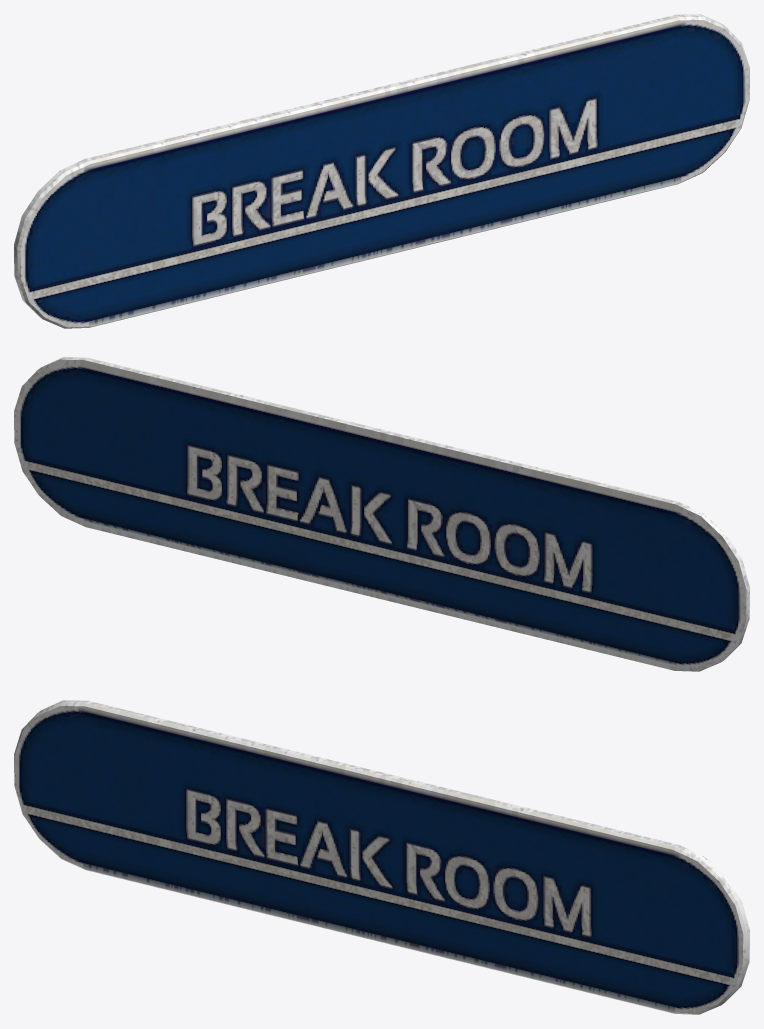
File: sign_direction_break_room.dae
3 views of the same model, one above another, from view 1: azimuth 30°, elevation 25°; view 2: azimuth 150°, elevation 25°; view 3: azimuth 330°, elevation 25° (orthographic).
Visible parts, largest first — view 1: break_room; view 2: break_room; view 3: break_room.
Boxes of the visible parts, left/top/right/bottom form: break_room: left=14, top=14, right=749, bottom=328; break_room: left=14, top=357, right=749, bottom=671; break_room: left=14, top=700, right=749, bottom=1014.
Size of the model in its own units: 105 by 22.76 by 1.16.
